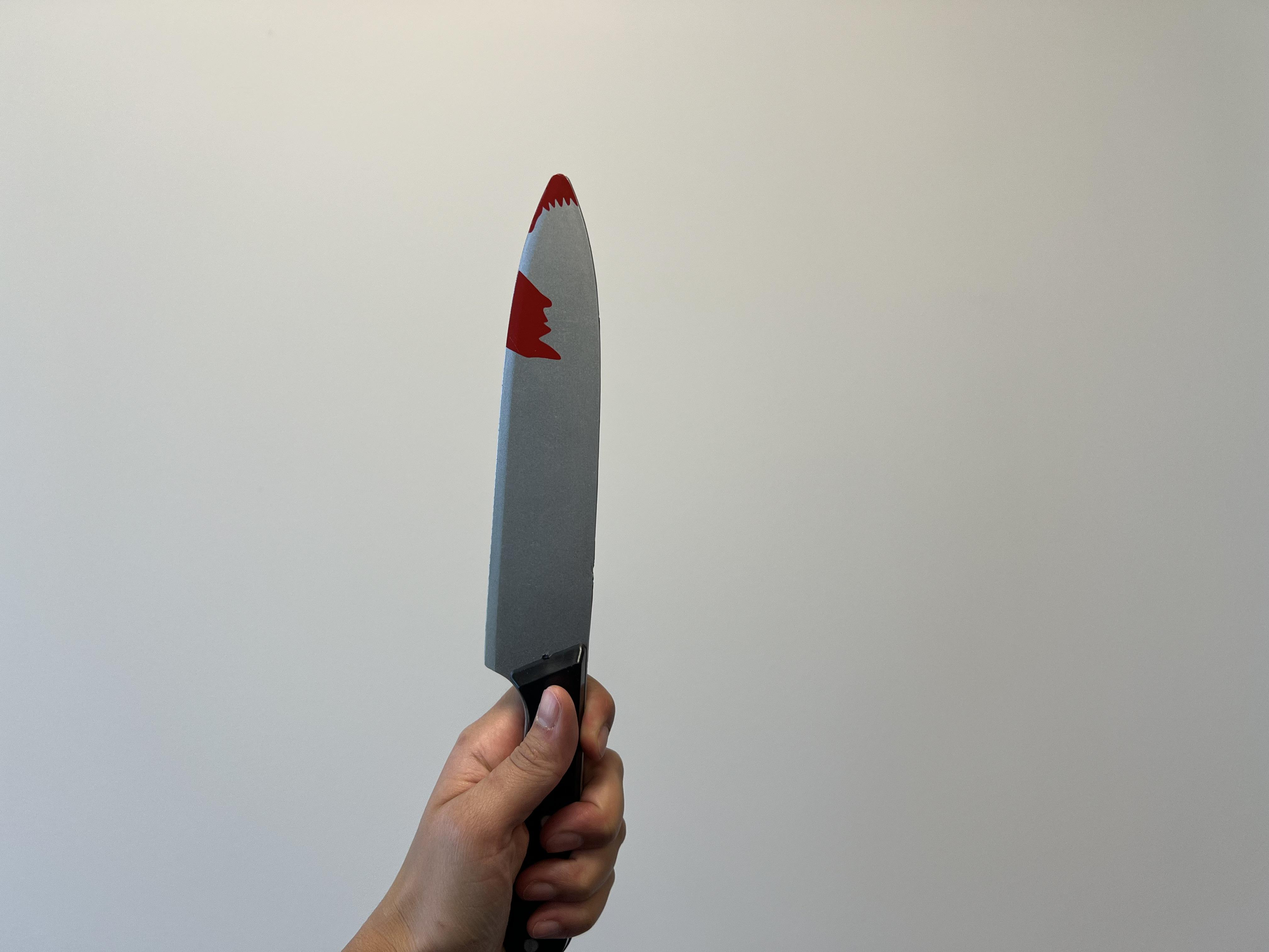Knife: (363, 678, 625, 952), (485, 172, 601, 716), (414, 674, 624, 952)
